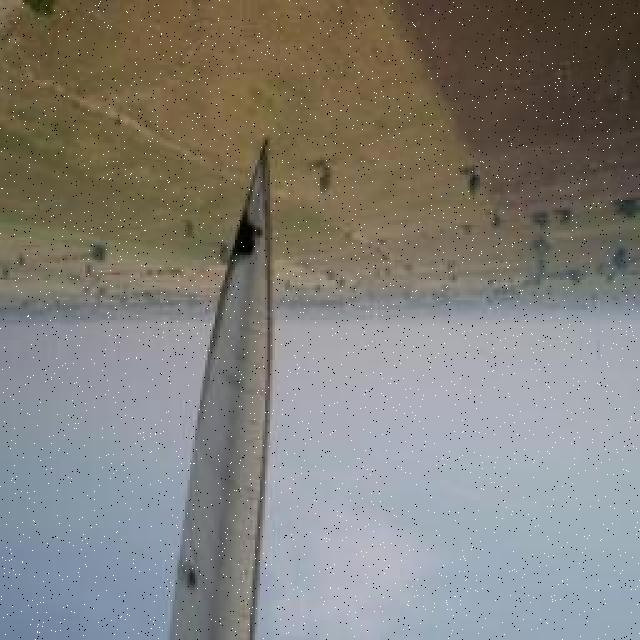Dirt: (168, 142, 274, 640)
Oil LEAKAGE: (231, 212, 263, 272), (181, 564, 200, 593)
